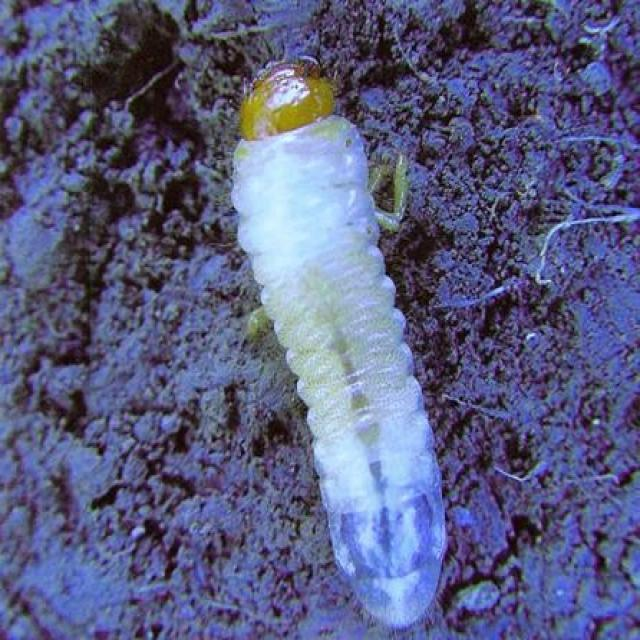grub: (225, 64, 451, 623)
